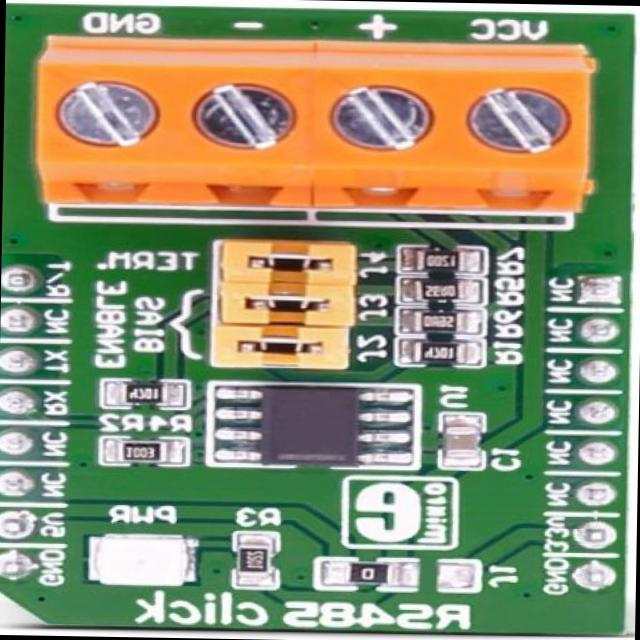IC: (213, 384, 396, 470)
LED: (82, 532, 196, 586)
capacitor: (436, 414, 487, 464)
connector: (312, 44, 592, 216), (41, 42, 314, 215), (208, 323, 350, 368), (208, 284, 358, 326), (220, 238, 350, 278)
resistor: (231, 534, 284, 585), (102, 376, 186, 406), (321, 558, 404, 587), (100, 436, 178, 466), (399, 310, 477, 334), (398, 341, 473, 364), (408, 249, 482, 272), (406, 278, 476, 302)
